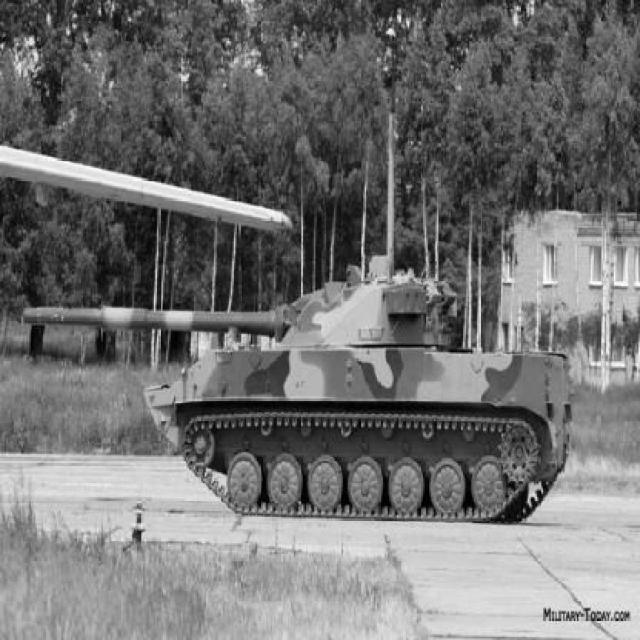Tank: (23, 253, 580, 524)
